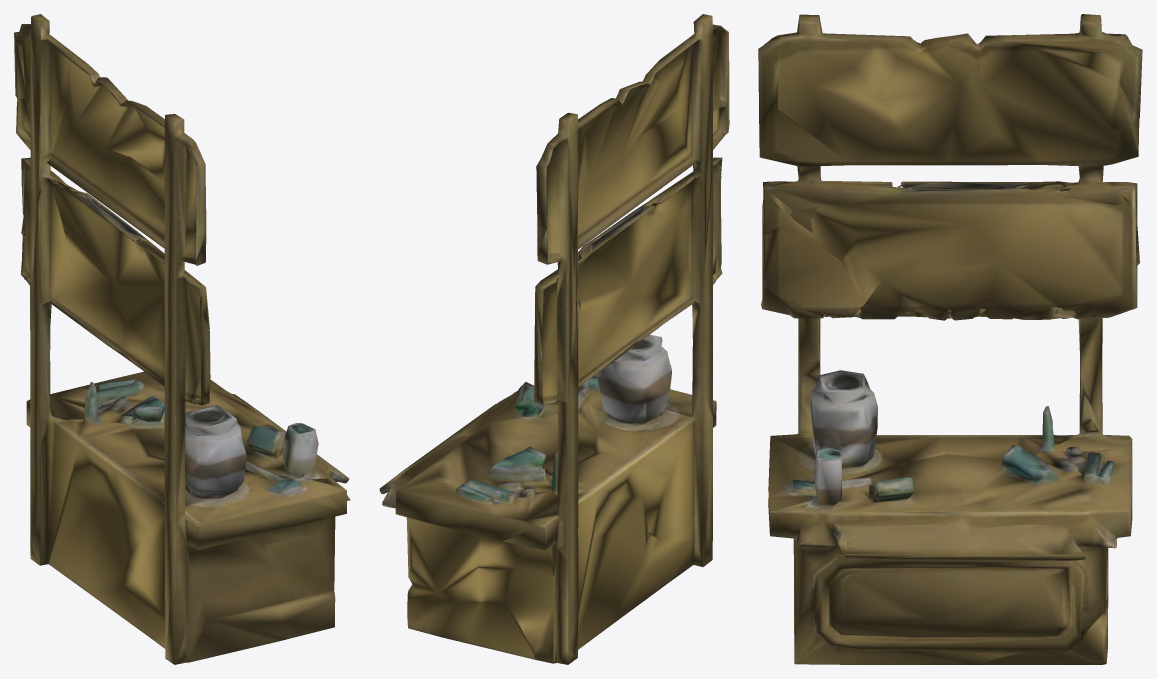
Rendered from wood_sign_discover.glb.
3 views of the same model, side by side, from view 1: azimuth 30°, elevation 25°; view 2: azimuth 150°, elevation 25°; view 3: azimuth 270°, elevation 25° (orthographic). The views are drawn at different scales.
Size of the model in its own units: 0.7629 by 2.01 by 1.22.
1 material, 1 textured.
